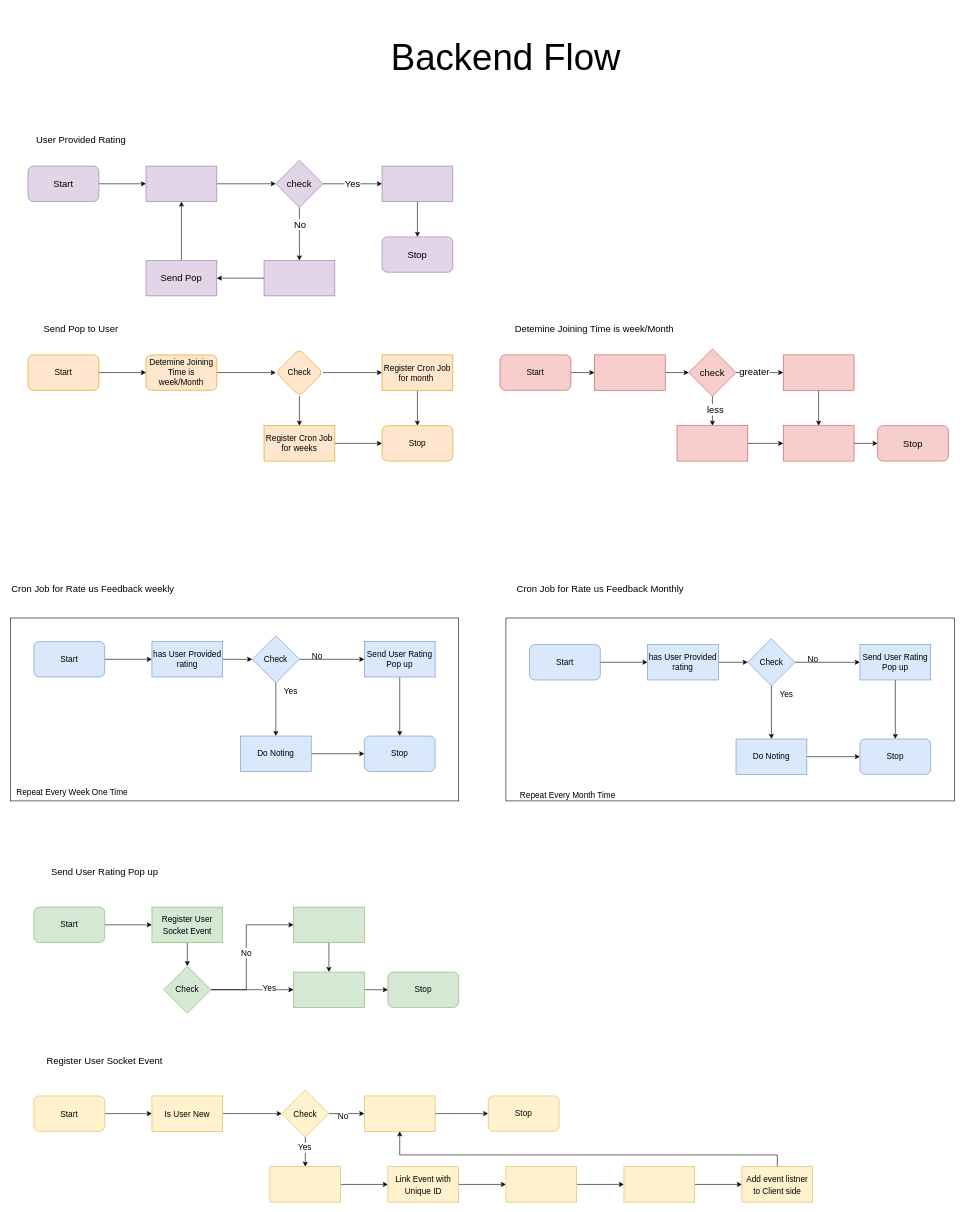
Image size: 965x1212. Some labels were removed from this diagram. The centre of each missing label's shape, as x and y in pixels:
Attack the Event to Namespace: the point at 541,1184
Attack the event with socket: the point at 659,1184
Create Room Based on user unique Id: the point at 328,925
Create Socket Event: the point at 305,1184
Determine time: the point at 629,372
Filter User: the point at 299,278
Month: the point at 818,372
Run Cron Job: the point at 818,443
Send Pop up event: the point at 328,989
Send User Pop: the point at 399,1113
Update schema: the point at 417,183
User Rated: the point at 181,183
Week: the point at 712,443
